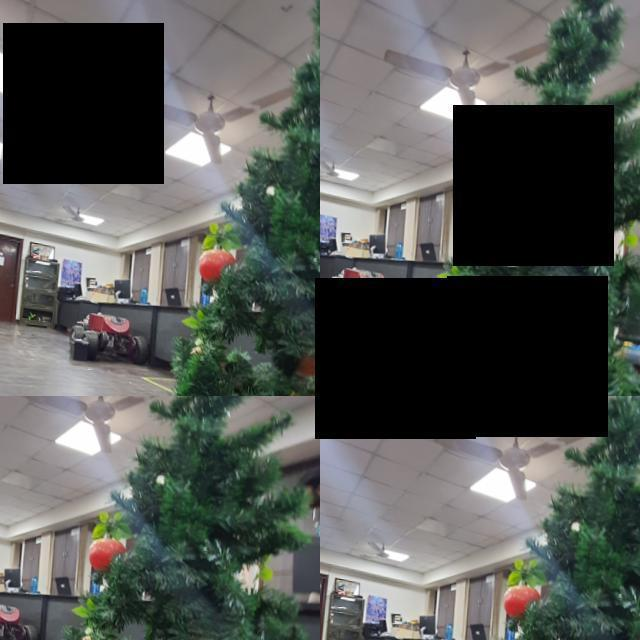tree: (436, 0, 640, 402), (171, 6, 358, 397), (59, 387, 318, 640), (436, 396, 640, 640)
